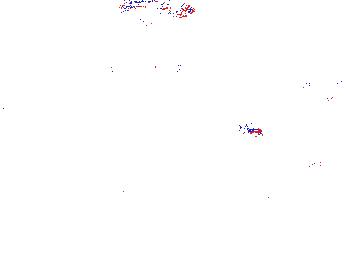red belly glassfish: (285, 158, 328, 174), (235, 122, 265, 139)
redtail glassfish: (2, 33, 85, 64), (193, 84, 265, 118), (104, 56, 188, 85), (117, 1, 197, 25), (294, 65, 346, 99)
